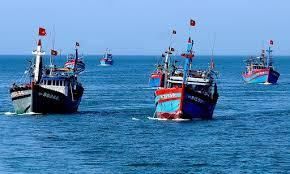Ship: (11, 41, 84, 115), (156, 40, 220, 120), (243, 41, 281, 84), (66, 43, 86, 75), (150, 65, 164, 87), (101, 49, 114, 67)
